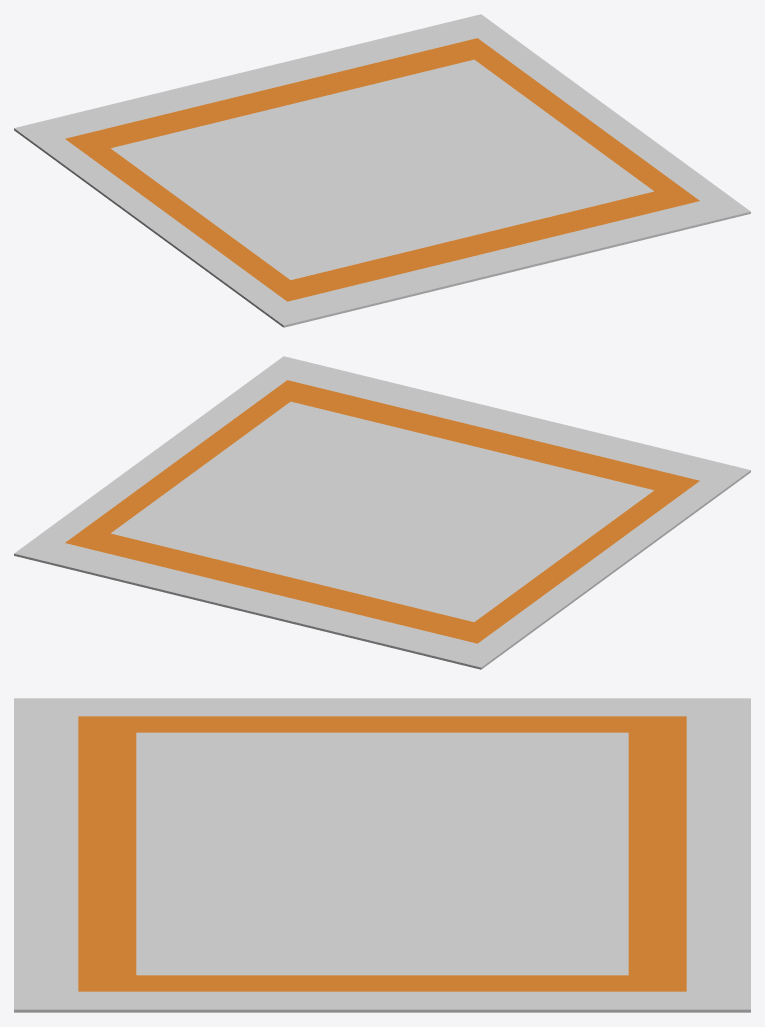
The model's file is alfombraCuadradav01.fbx.
3 renders of one model, top to bottom at view 1: azimuth 30°, elevation 25°; view 2: azimuth 150°, elevation 25°; view 3: azimuth 270°, elevation 25°, orthographic. The views are drawn at different scales.
Visible parts, largest first — view 1: Plane; view 2: Plane; view 3: Plane.
Boxes of the visible parts, left/top/right/bottom form: Plane: left=14, top=14, right=750, bottom=327; Plane: left=14, top=356, right=750, bottom=669; Plane: left=14, top=698, right=750, bottom=1012.
Size of the model in its own units: 2 by 0.00891 by 2.
